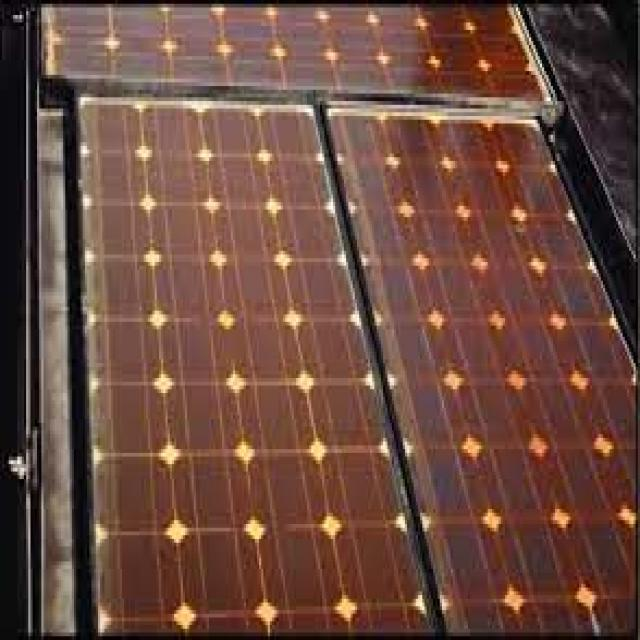faulty: (84, 108, 385, 640), (373, 115, 640, 640), (48, 0, 538, 109)
